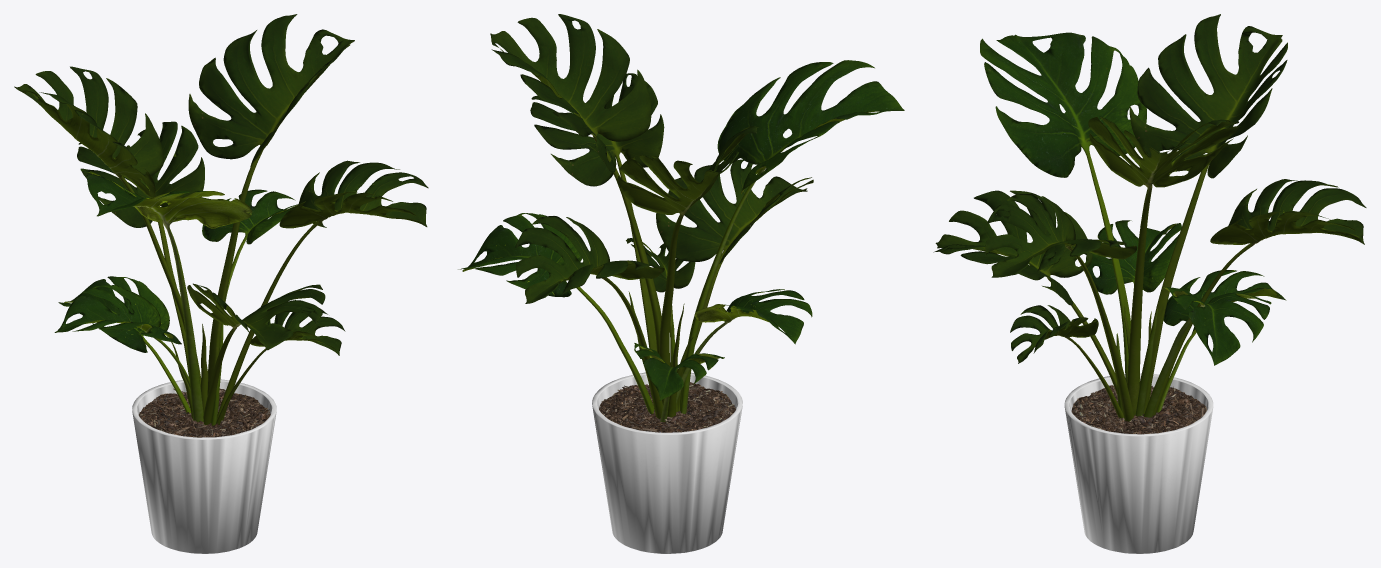
Rendered from plant_clean.obj.
3 views of the same model, side by side, from view 1: azimuth 30°, elevation 25°; view 2: azimuth 150°, elevation 25°; view 3: azimuth 270°, elevation 25° (orthographic). The views are drawn at different scales.
Parts seen in each view (by area): view 1: PlantMonstera001_Plane.007, PlantMonsteraVase001_Untitled.000; view 2: PlantMonstera001_Plane.007, PlantMonsteraVase001_Untitled.000; view 3: PlantMonstera001_Plane.007, PlantMonsteraVase001_Untitled.000.
Part boxes in pixels (box(x1,y1,x2,y2)): PlantMonstera001_Plane.007: box(14, 14, 428, 425); PlantMonsteraVase001_Untitled.000: box(132, 379, 276, 553); PlantMonstera001_Plane.007: box(458, 14, 904, 422); PlantMonsteraVase001_Untitled.000: box(592, 372, 742, 553); PlantMonstera001_Plane.007: box(933, 14, 1366, 421); PlantMonsteraVase001_Untitled.000: box(1064, 373, 1213, 553).
Bounding box in the file's own units: 0.4422 × 0.5651 × 0.4708.
Materials: 2 (2 with a texture image).
